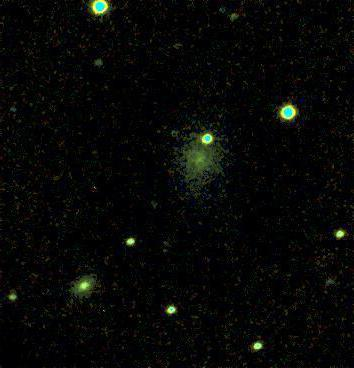star: (152, 233, 182, 263)
